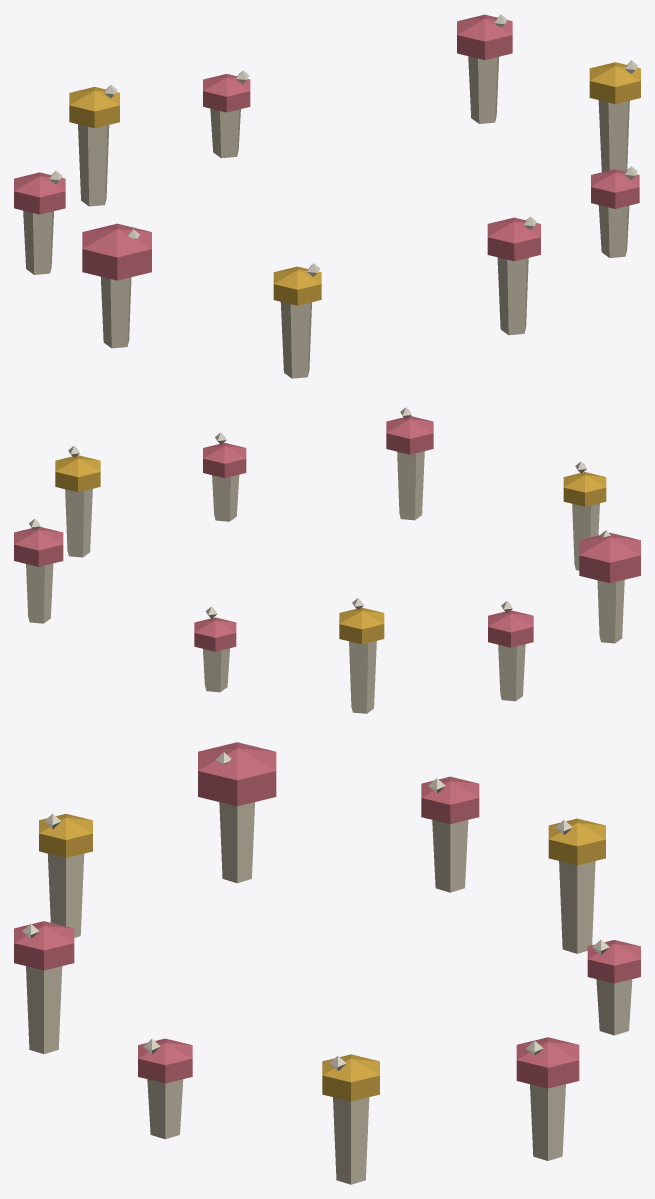
The model's file is mushroom_ring.glb.
The picture shows the model from 3 angles, top to bottom: view 1: azimuth 30°, elevation 25°; view 2: azimuth 150°, elevation 25°; view 3: azimuth 270°, elevation 25°; orthographic projection. The views are drawn at different scales.
Parts seen in each view (by area): view 1: mushroom_ring; view 2: mushroom_ring; view 3: mushroom_ring.
Part boxes in pixels (x1,y1,x2,y2): mushroom_ring: [14, 14, 640, 378]; mushroom_ring: [14, 407, 640, 713]; mushroom_ring: [14, 742, 640, 1184].
Size of the model in its own units: 1.79 by 0.3334 by 1.42.
